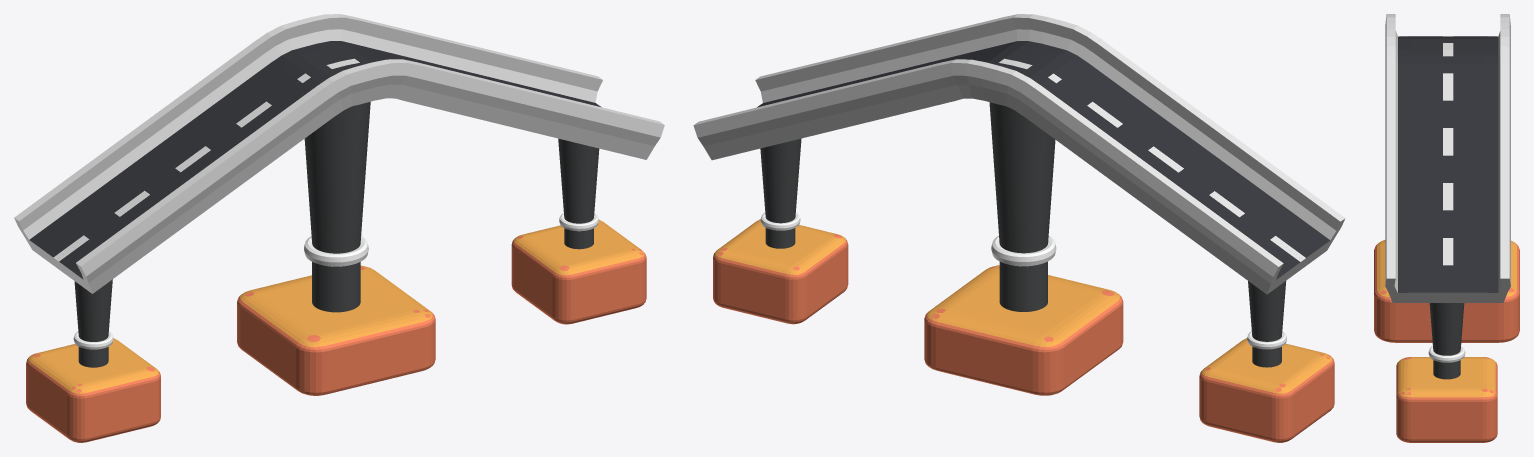
Rendered from Road2.fbx.
The picture shows the model from 3 angles, left to right: view 1: azimuth 30°, elevation 25°; view 2: azimuth 150°, elevation 25°; view 3: azimuth 270°, elevation 25°; orthographic projection. The views are drawn at different scales.
Parts seen in each view (by area): view 1: Cube, Cube.002, Cube.003, Cube.001, Cylinder, Cylinder.001; view 2: Cube, Cube.002, Cube.003, Cube.001, Cylinder, Cylinder.001; view 3: Cube.002, Cube.003, Cube.001, Cylinder.001.
Part boxes in pixels (box(x1,y1,x2,y2)): Cube: box(14, 39, 335, 293); Cube.002: box(258, 14, 664, 159); Cube.003: box(26, 219, 646, 442); Cube.001: box(237, 265, 435, 395); Cylinder: box(304, 101, 370, 312); Cylinder.001: box(73, 138, 599, 367); Cube: box(1023, 39, 1345, 294); Cube.002: box(693, 14, 1101, 160); Cube.003: box(713, 219, 1334, 442); Cube.001: box(924, 265, 1123, 395); Cylinder: box(989, 102, 1056, 311); Cylinder.001: box(760, 138, 1286, 367); Cube.002: box(1385, 14, 1510, 302); Cube.003: box(1396, 357, 1497, 442); Cube.001: box(1374, 240, 1519, 342); Cylinder.001: box(1428, 303, 1465, 379).
Bounding box in the file's own units: 3221 × 1660 × 753.
